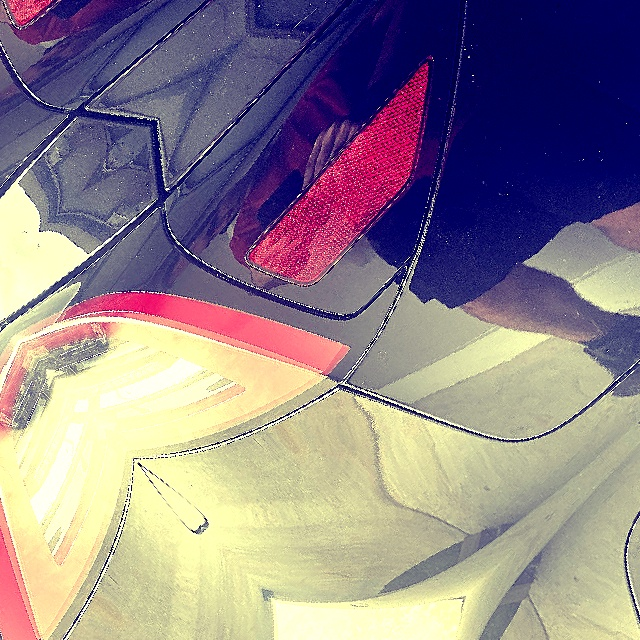reflector: (226, 50, 495, 309)
